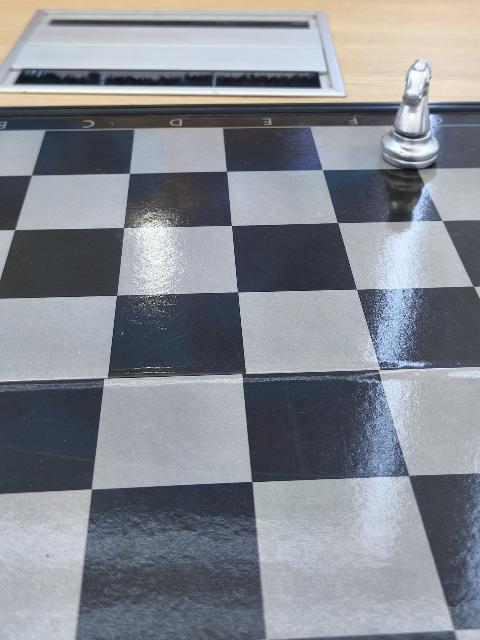white_knight: (384, 58, 442, 167)
